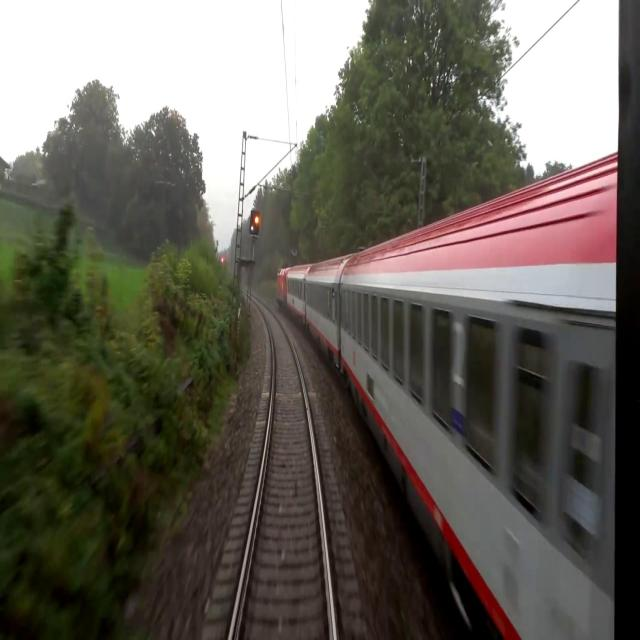rail-track: (232, 295, 333, 639)
